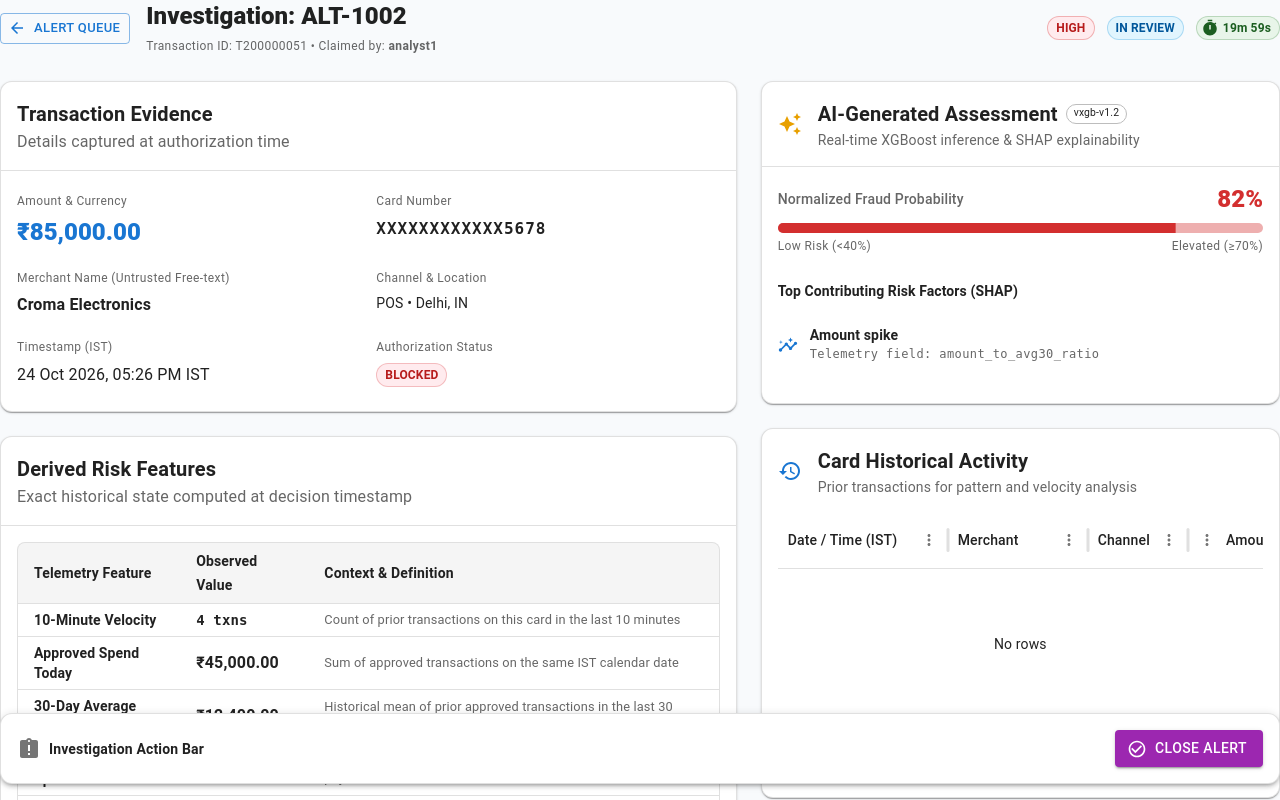
Test: AlertDetail Resolution Flow › validates minimum 10 characters for resolution comment
This screenshot has width=1280, height=800.
Click the button "Close Alert" at (1189, 749), box [1115,730,1263,767]
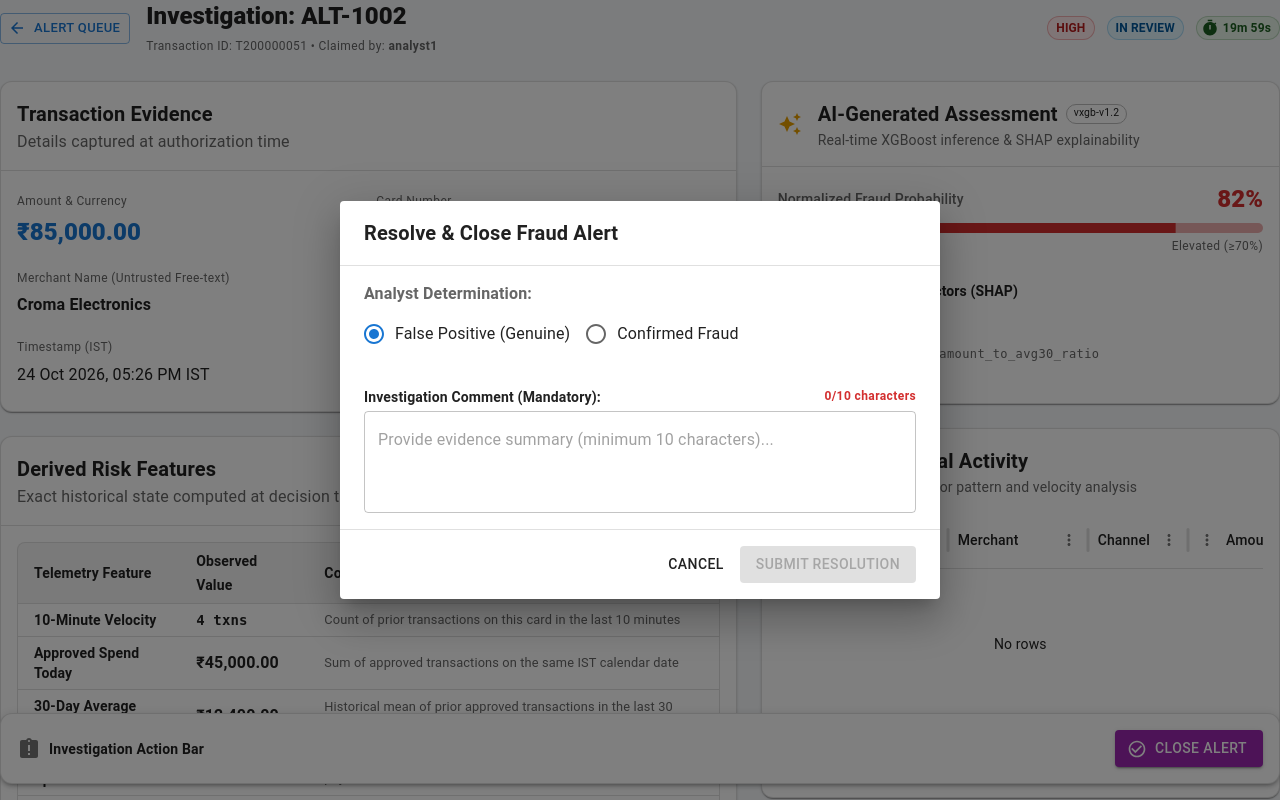
Now the heading "Resolve & Close Fraud Alert" is shown, box [364,221,618,245]
Now the button with test id "submit-resolution-button" is disabled, box [740,546,916,583]
Type "Too short" into the text box with test id "resolution-comment-input" at (640, 462), box [378,428,902,497]
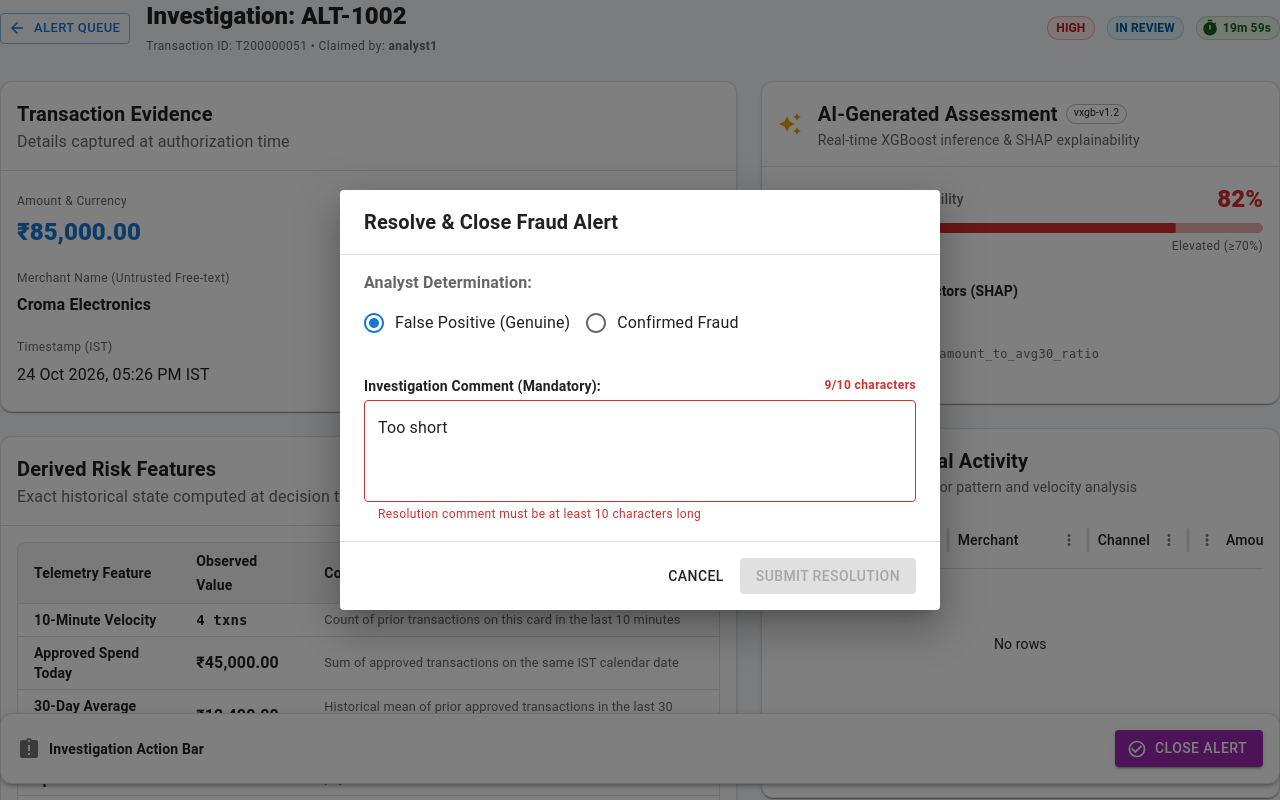
Now the button with test id "submit-resolution-button" is disabled, box [740,558,916,594]
Now the text "9/10 characters" is shown, box [824,376,916,396]
Replace the text in the text box with test id "resolution-comment-input" with "Customer confirmed transaction genuine." at (640, 451), box [378,416,902,485]
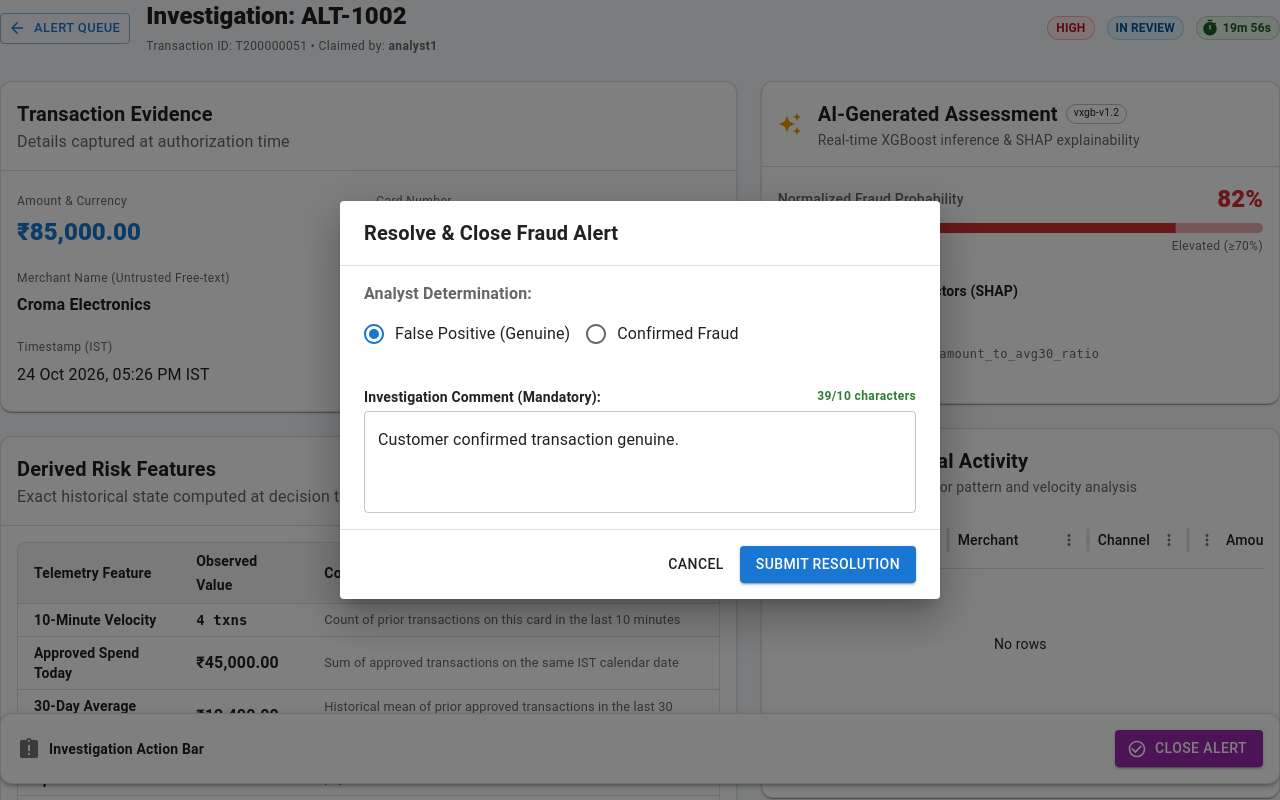
Now the button with test id "submit-resolution-button" is enabled, box [740,546,916,583]
